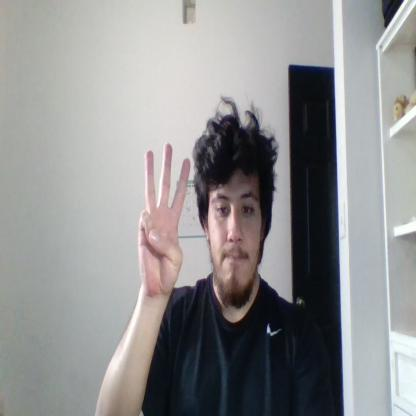W: (138, 143, 190, 298)
